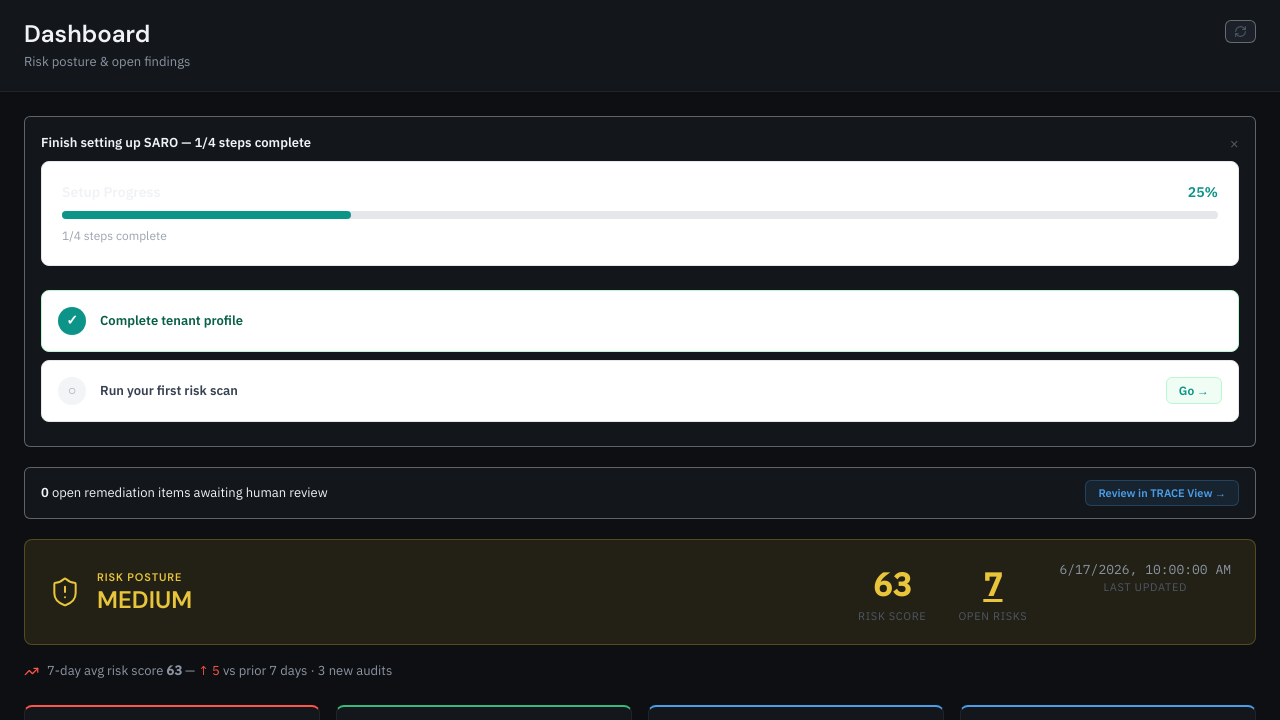
Dashboard — STORY-TAB-008: relocated Remediation + Onboarding surfaces › AC-3: incomplete onboarding renders the dismissible checklist for admin (the TAB-002 component)
Expected: the text "Finish setting up SARO — 1/4 steps complete" is shown, x1=41 y1=133 x2=311 y2=153
Expected: the text "Run your first risk scan" is shown, x1=100 y1=382 x2=238 y2=399
Note: dismiss hides it and persists
Click the button named "Dismiss setup checklist". click: (1234, 143)
box: x1=1229 y1=135 x2=1239 y2=151
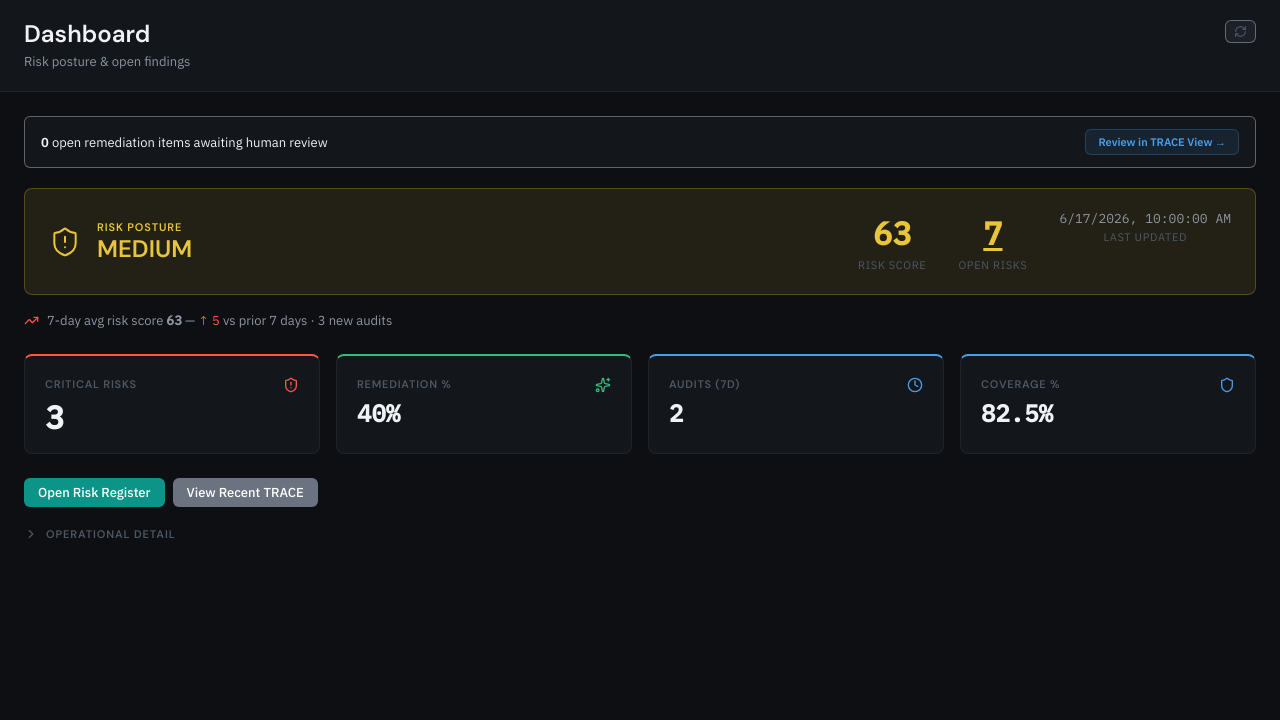
Expected: the text "Finish setting up SARO" is gone
